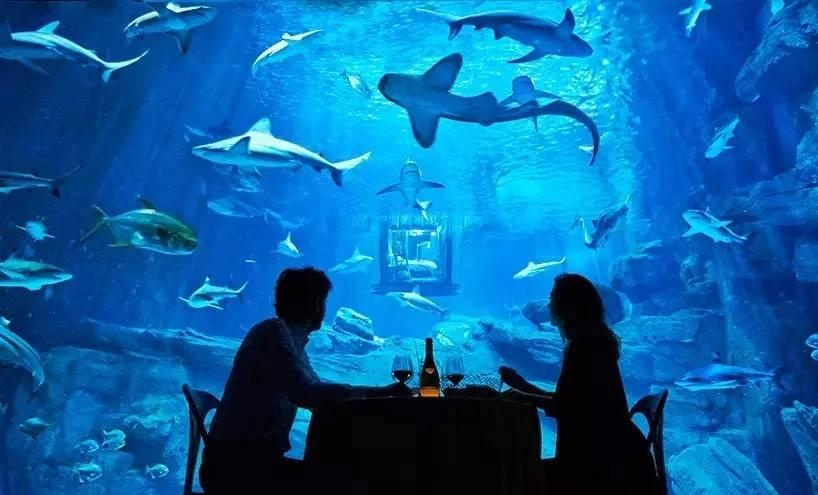fish: (376, 56, 606, 167), (191, 115, 369, 189), (424, 1, 600, 65), (77, 188, 203, 259), (114, 1, 216, 60), (242, 23, 331, 83), (558, 202, 630, 252), (675, 203, 754, 248)
